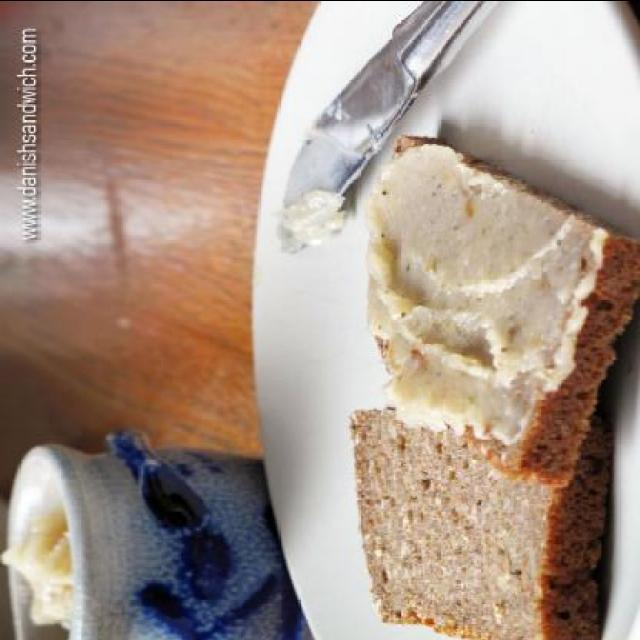Spread: (371, 149, 607, 425)
